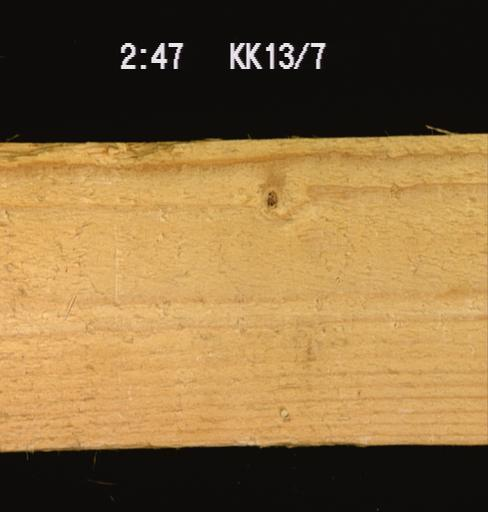dry_knot: (260, 183, 281, 214)
wave: (0, 141, 181, 162)
